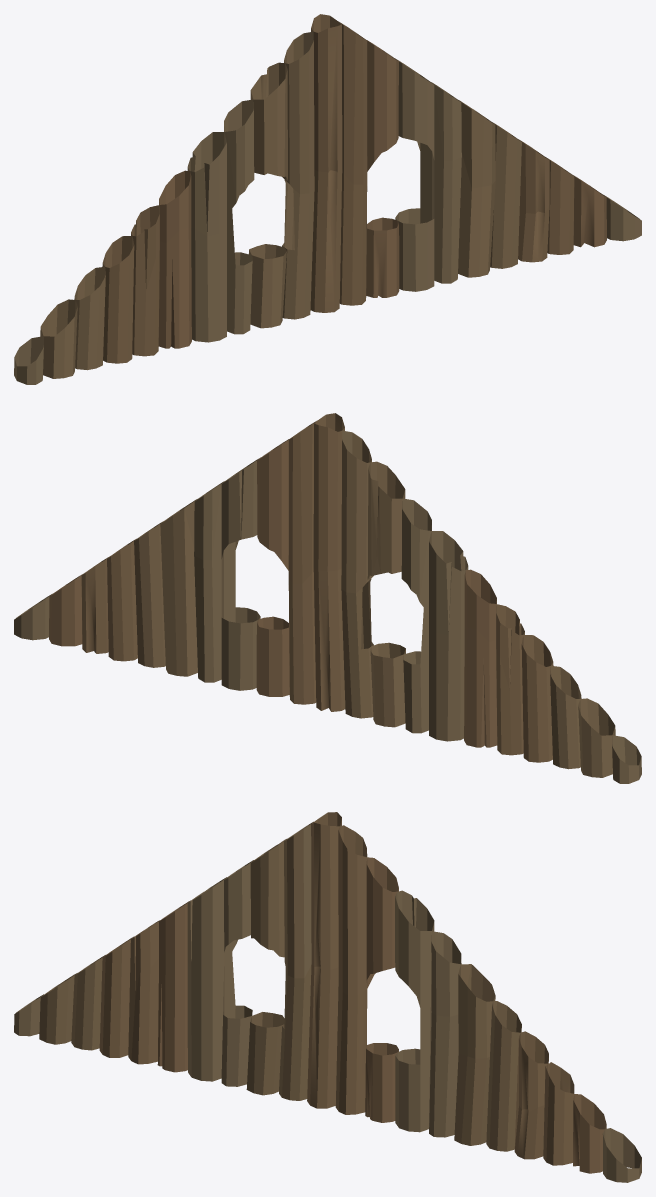
The model's file is rpgpp_ag_roof_end_01_9x4_wall_window_02c.fbx.
3 views of the same model, one above another, from view 1: azimuth 30°, elevation 25°; view 2: azimuth 150°, elevation 25°; view 3: azimuth 330°, elevation 25° (orthographic).
Parts seen in each view (by area): view 1: rpgpp_ag_roof_end_01_9x4_wall_window_02c; view 2: rpgpp_ag_roof_end_01_9x4_wall_window_02c; view 3: rpgpp_ag_roof_end_01_9x4_wall_window_02c.
Part boxes in pixels (box(x1,y1,x2,y2)): rpgpp_ag_roof_end_01_9x4_wall_window_02c: box(14, 14, 641, 384); rpgpp_ag_roof_end_01_9x4_wall_window_02c: box(14, 413, 641, 783); rpgpp_ag_roof_end_01_9x4_wall_window_02c: box(14, 812, 641, 1182).
Size of the model in its own units: 9 by 3.93 by 0.4626.
